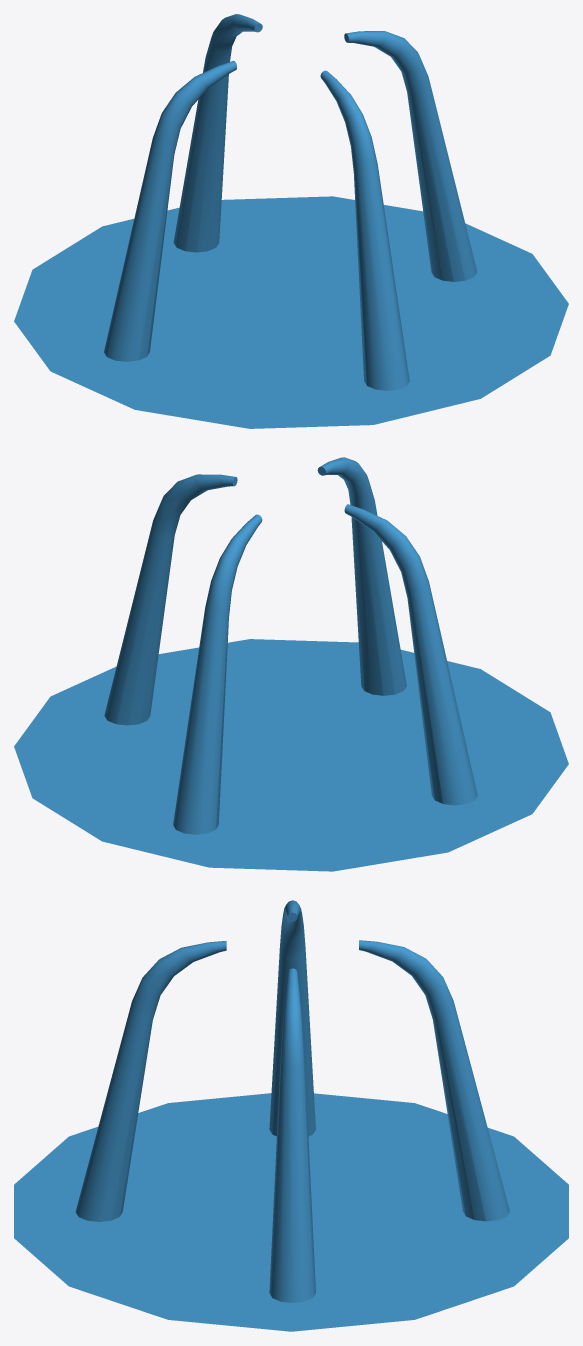
Rendered from Woda.fbx.
3 views of the same model, one above another, from view 1: azimuth 30°, elevation 25°; view 2: azimuth 150°, elevation 25°; view 3: azimuth 270°, elevation 25° (orthographic). The views are drawn at different scales.
Visible parts, largest first — view 1: woda; view 2: woda; view 3: woda.
Part boxes in pixels (x1,y1,x2,y2): woda: [14, 14, 568, 428]; woda: [14, 457, 568, 871]; woda: [14, 900, 568, 1331].
Bounding box in the file's own units: 262 × 138 × 255.
